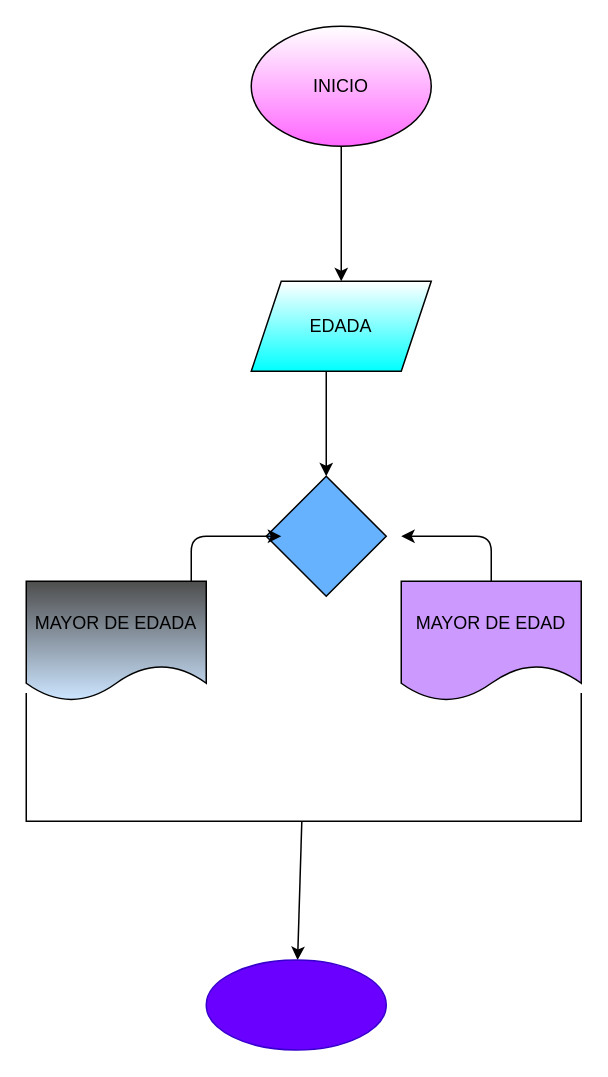
This 608x1077 diagram has some shape labels left out. The shapes that lost their labels are listed below. From the top down, each one's box as (x1, y1, x2, y2) in pixels, then its label:
(265, 475, 386, 596): EDAD>=18
(205, 958, 386, 1050): FINAL
